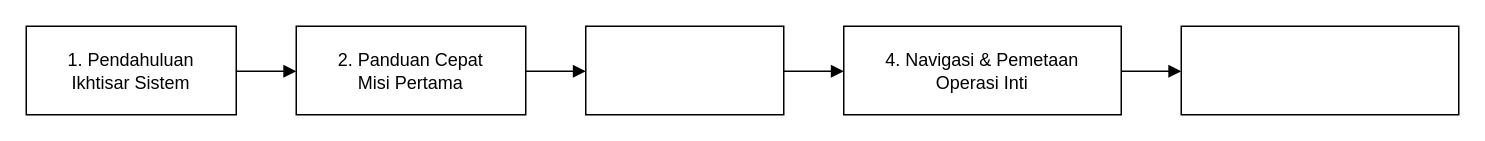
Some shapes in this 1485 by 141 pixel diagram are drawn without their labels. The shapes that lost their labels are listed below. From the top down, each one's centre as x and y in pixels, then its label:
At pixel 684 70: "3. Akun Login & Peran".
At pixel 1319 70: "5. Perilaku & FAQ Keselamatan & Bantuan".
